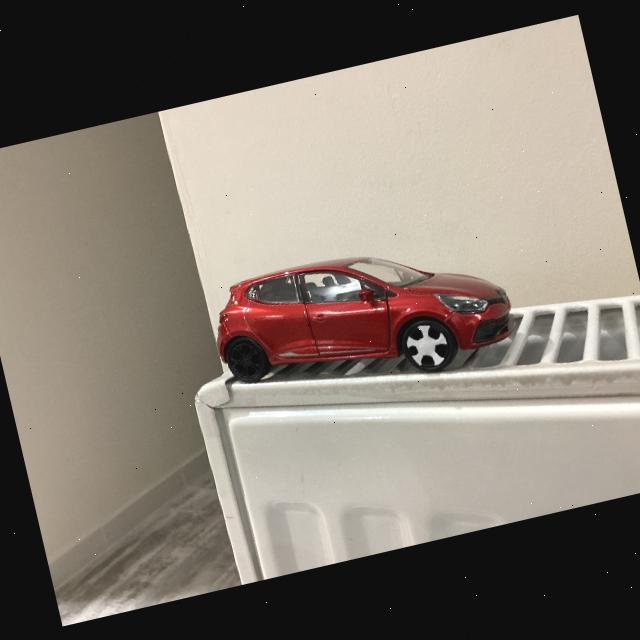Dogru_Jant: (226, 339, 264, 381)
Yanlis_Jant: (402, 320, 452, 371)
